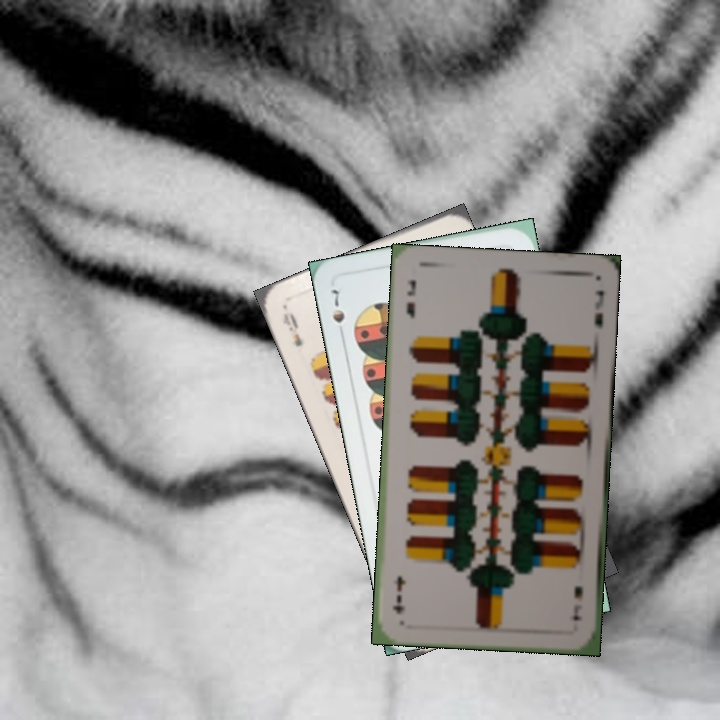E7: (402, 276, 419, 321), (568, 582, 585, 623)
E9: (278, 309, 306, 350)
S7: (328, 285, 348, 342)
